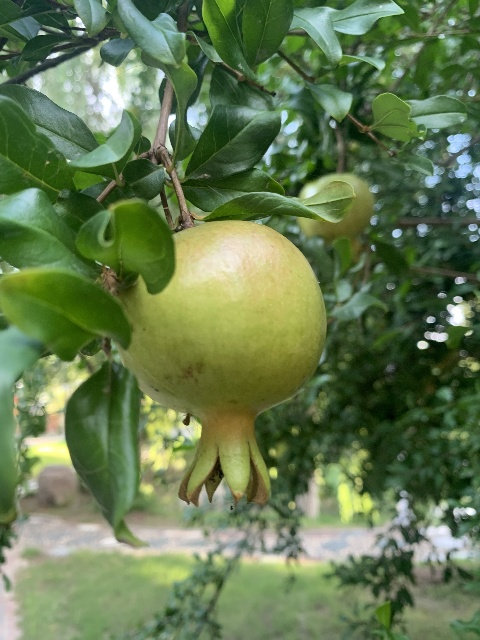mid-growth: (114, 220, 326, 508), (295, 173, 374, 259)
